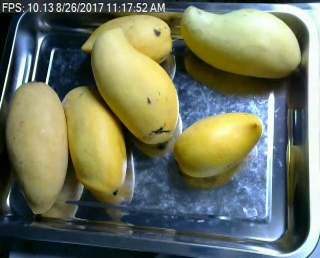Mango: (90, 28, 178, 144), (180, 5, 302, 77), (6, 81, 70, 211), (63, 86, 127, 197), (173, 112, 262, 177), (82, 13, 173, 65)
